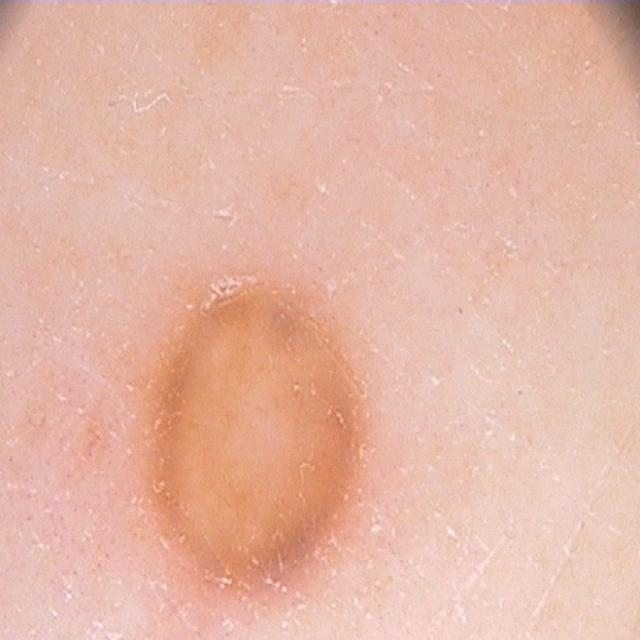Melanoma: (110, 210, 475, 640)
